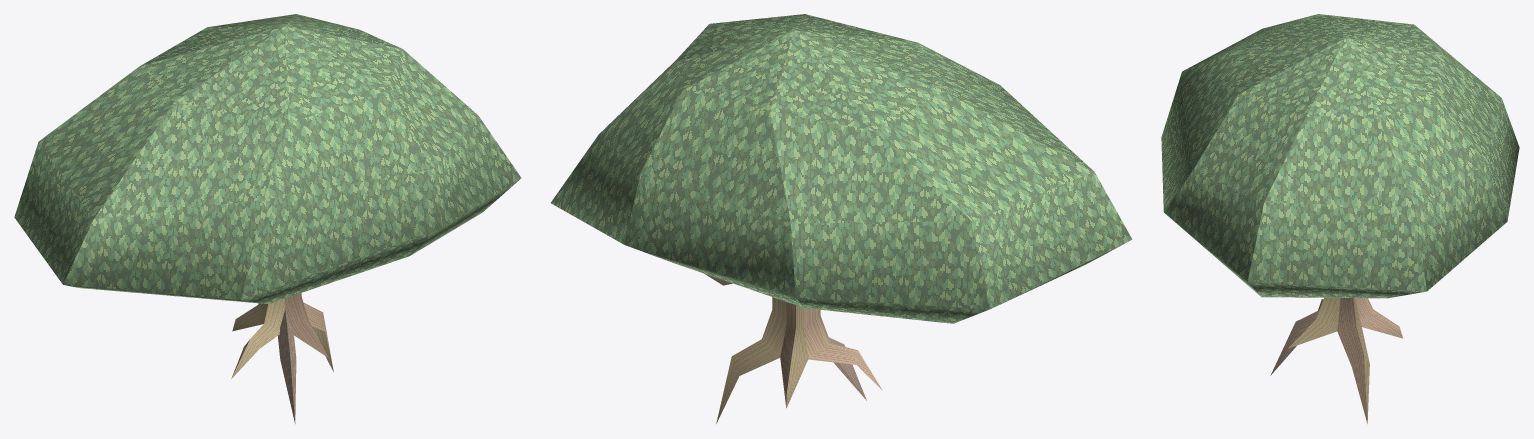
File: 0115_Big_Tree.glb
3 renders of one model, left to right at view 1: azimuth 30°, elevation 25°; view 2: azimuth 150°, elevation 25°; view 3: azimuth 270°, elevation 25°, orthographic. The views are drawn at different scales.
Parts seen in each view (by area): view 1: part_0; view 2: part_0; view 3: part_0.
Part boxes in pixels (x1,y1,x2,y2): part_0: (14, 14, 521, 423); part_0: (551, 14, 1132, 423); part_0: (1161, 14, 1519, 423).
Bounding box in the file's own units: 8.72 × 6.8 × 6.16.
Materials: 1 (1 with a texture image).
